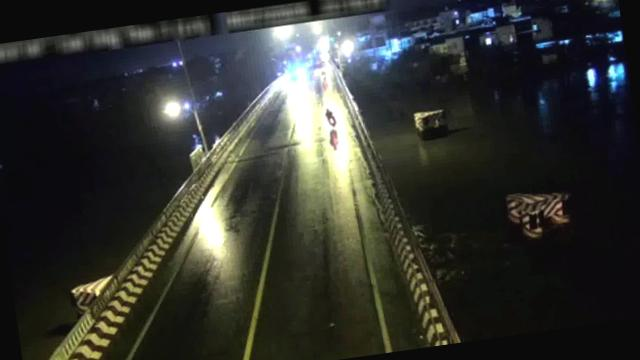Bike: (323, 106, 338, 130)
